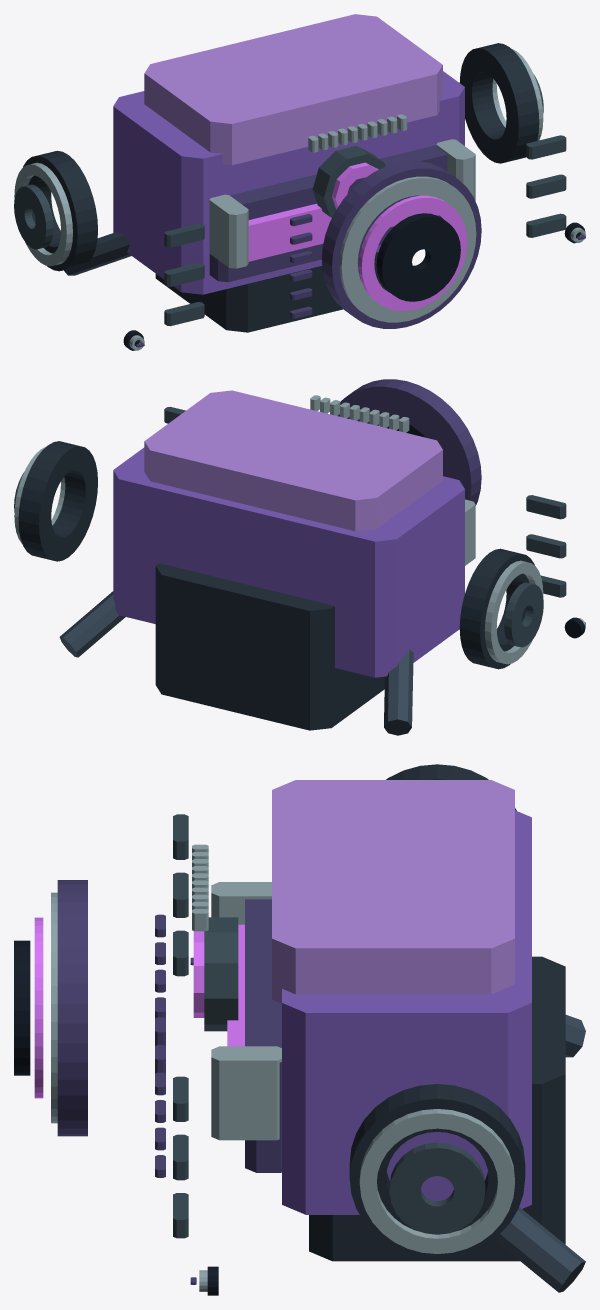
Rendered from enemy_tank_4k_head.obj.
3 renders of one model, top to bottom at view 1: azimuth 30°, elevation 25°; view 2: azimuth 150°, elevation 25°; view 3: azimuth 270°, elevation 25°, orthographic. The views are drawn at different scales.
Bounding box in the file's own units: 1.26 × 0.545 × 0.847.
